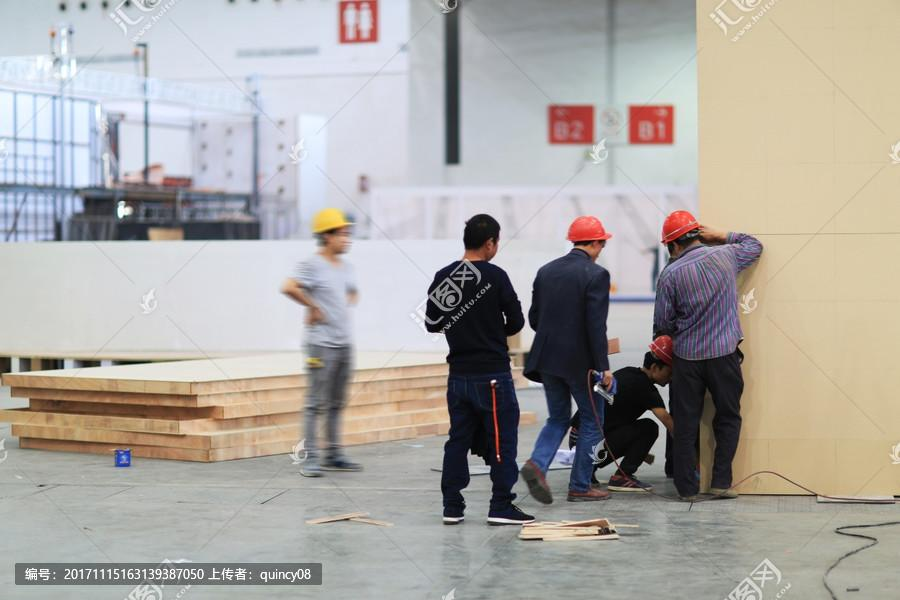helmet: (661, 210, 704, 246), (566, 215, 614, 244), (311, 206, 355, 237), (649, 335, 677, 367)
